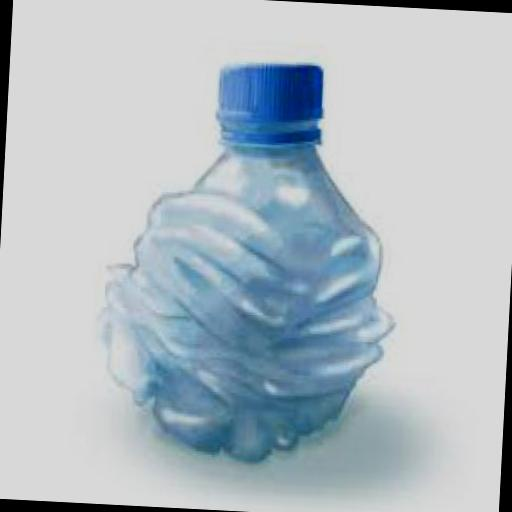plastic: (95, 47, 407, 464), (212, 52, 322, 142)
